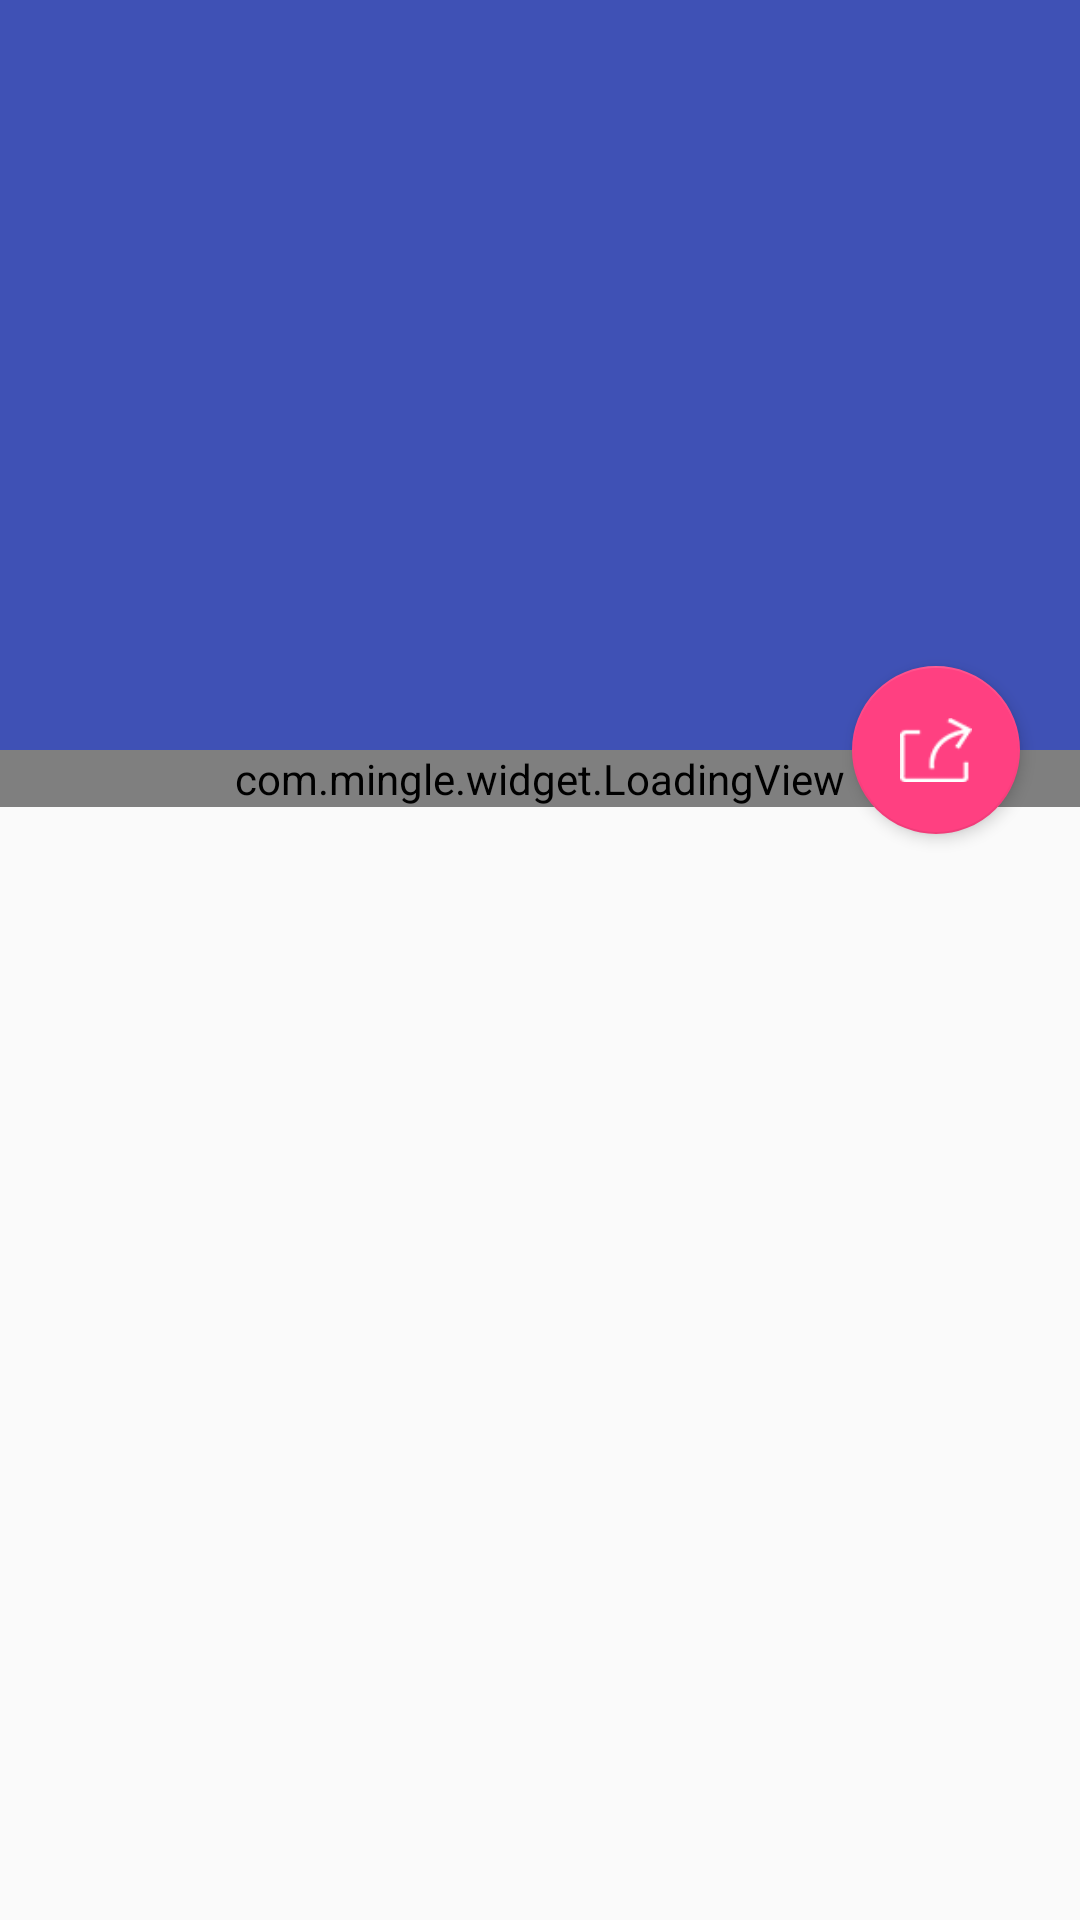

Where to tap for icons on this 1080 × 1920 app screen, as (x=x, y=y):
share: (x=936, y=750)
